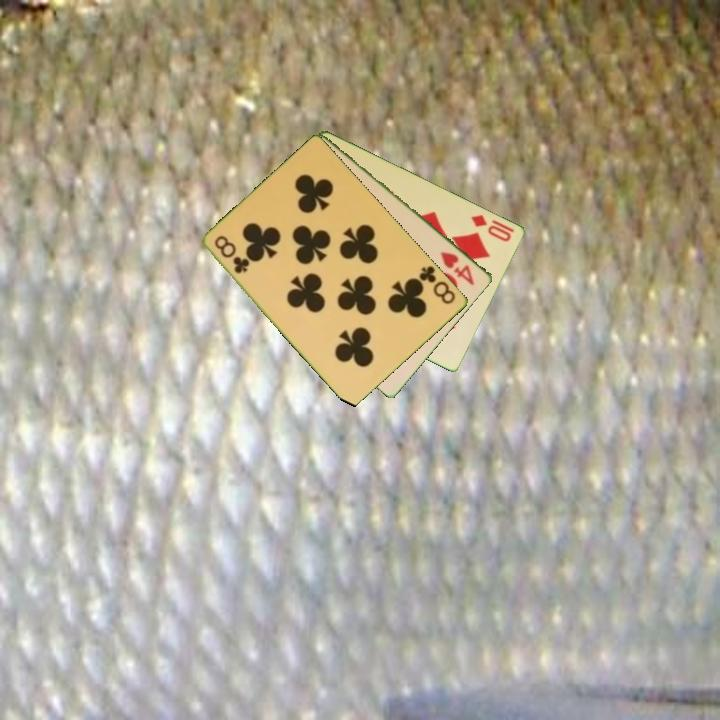10d: (468, 210, 518, 245)
4h: (437, 248, 478, 288)
8c: (416, 262, 459, 307), (211, 232, 253, 277)
